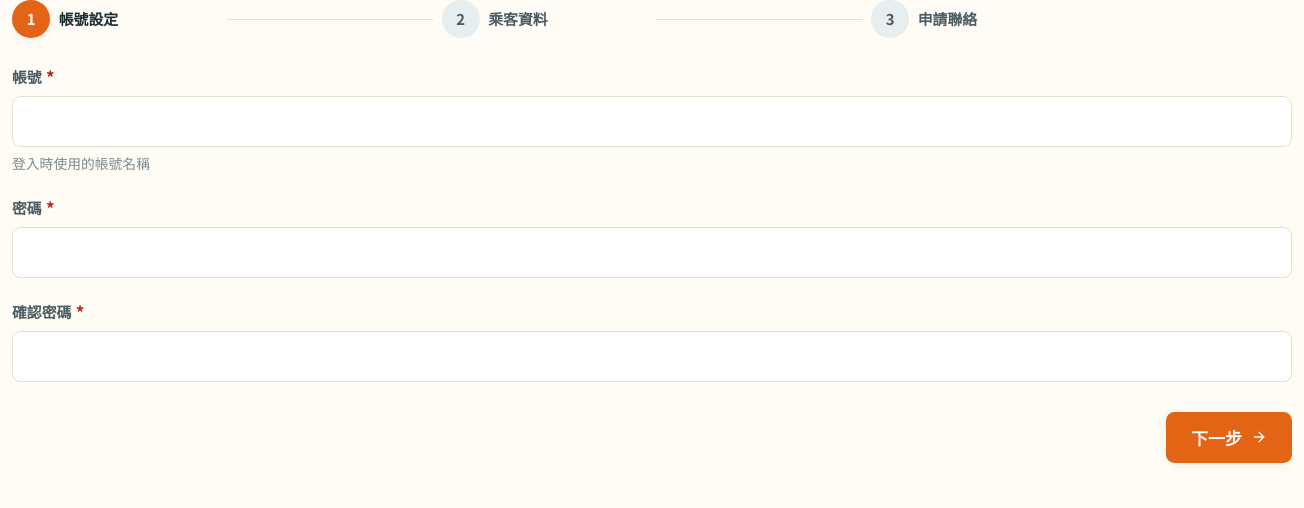
Test: RegisterForm › shows error when step 1 passwords do not match
Type "validuser" into the field labelled "帳號" at (652, 121), box [12,96,1292,147]
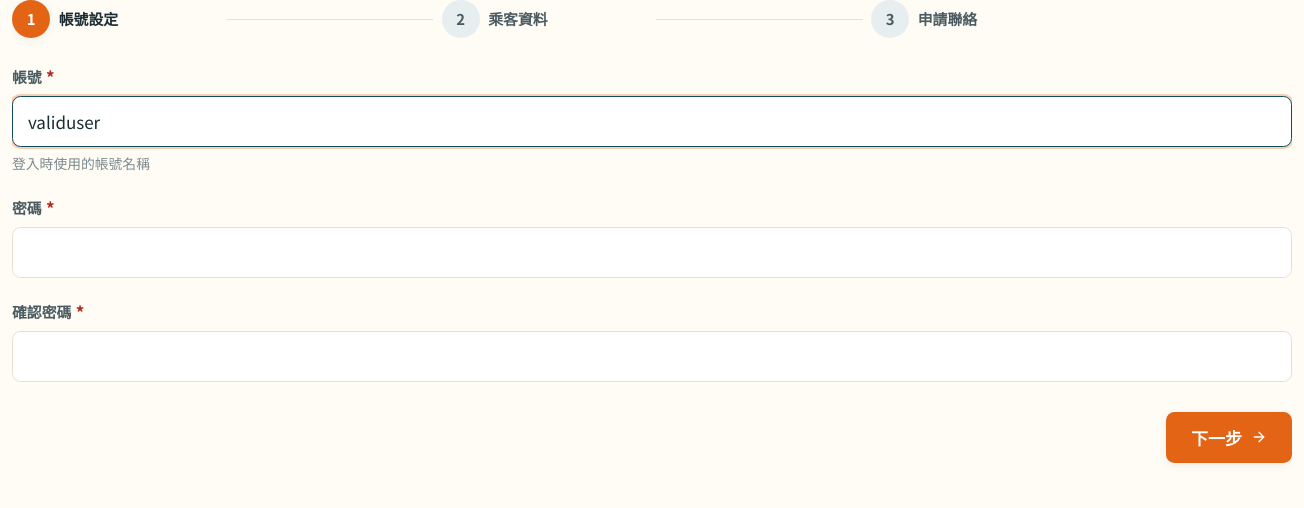
Type "password123" into the password field labelled "密碼" at (652, 252), box [12,227,1292,278]
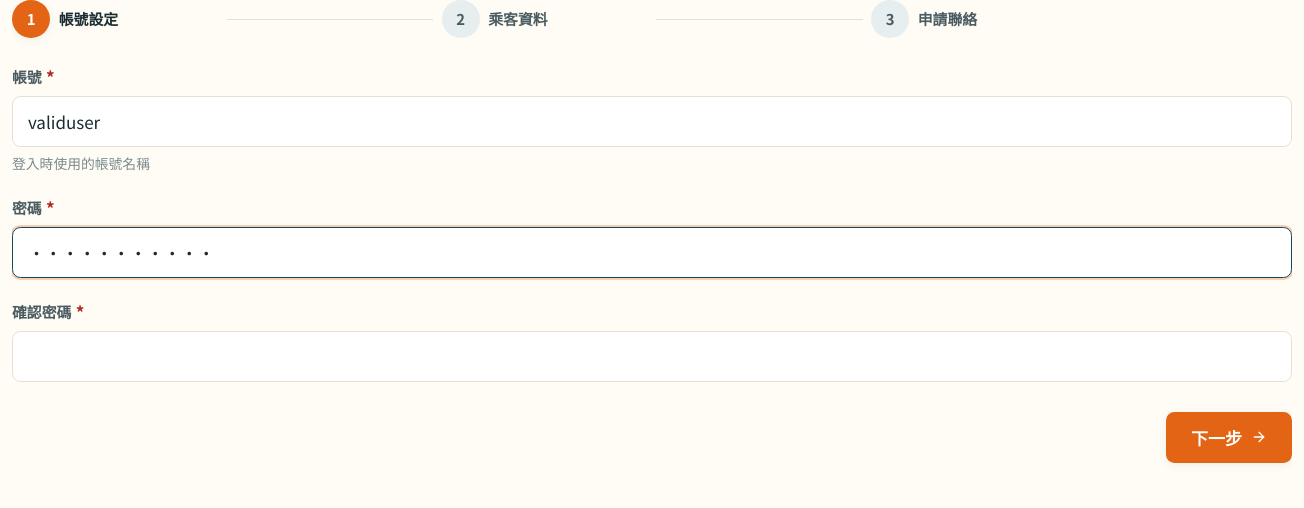
Type "differentpass" into the password field labelled "確認密碼" at (652, 356), box [12,331,1292,382]
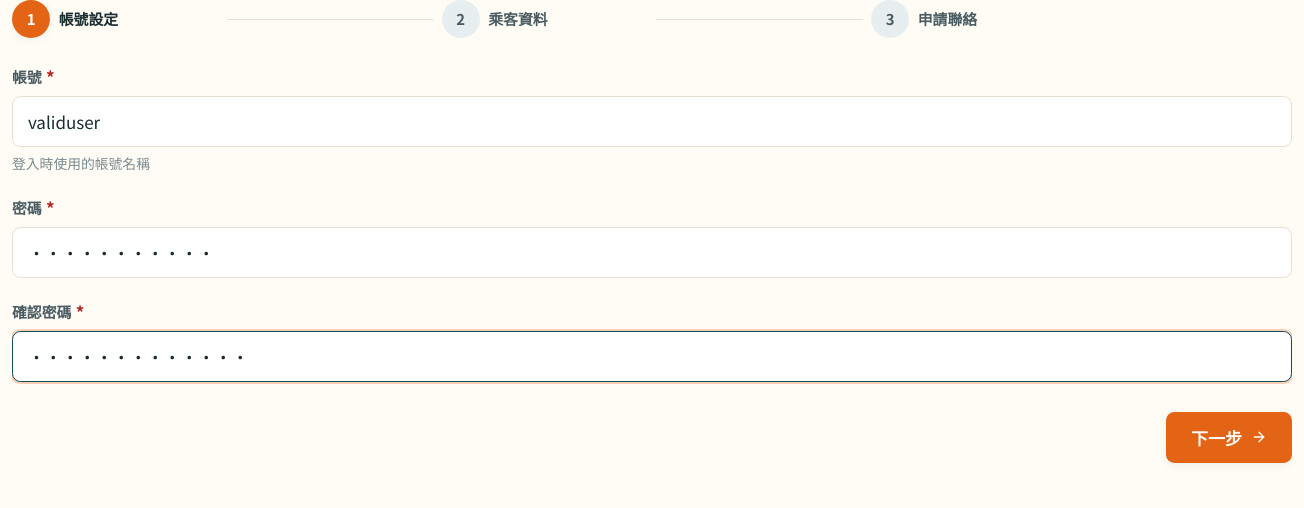
Click the button "下一步" at (1229, 437), box [1166,412,1292,463]
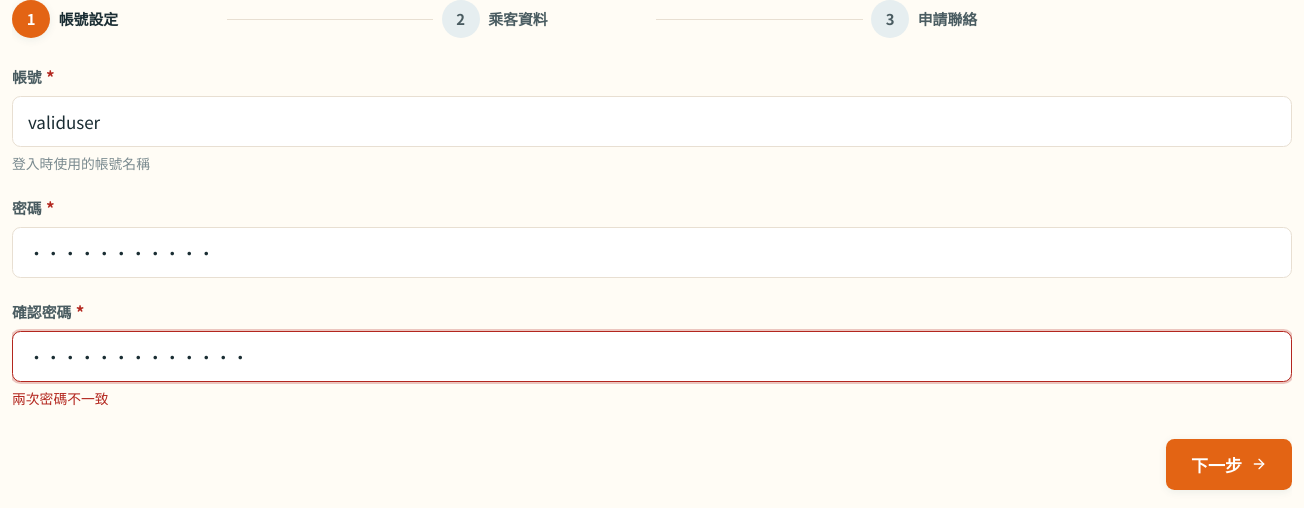
Expected: the message reads "兩次密碼不一致", [12,388,109,408]
